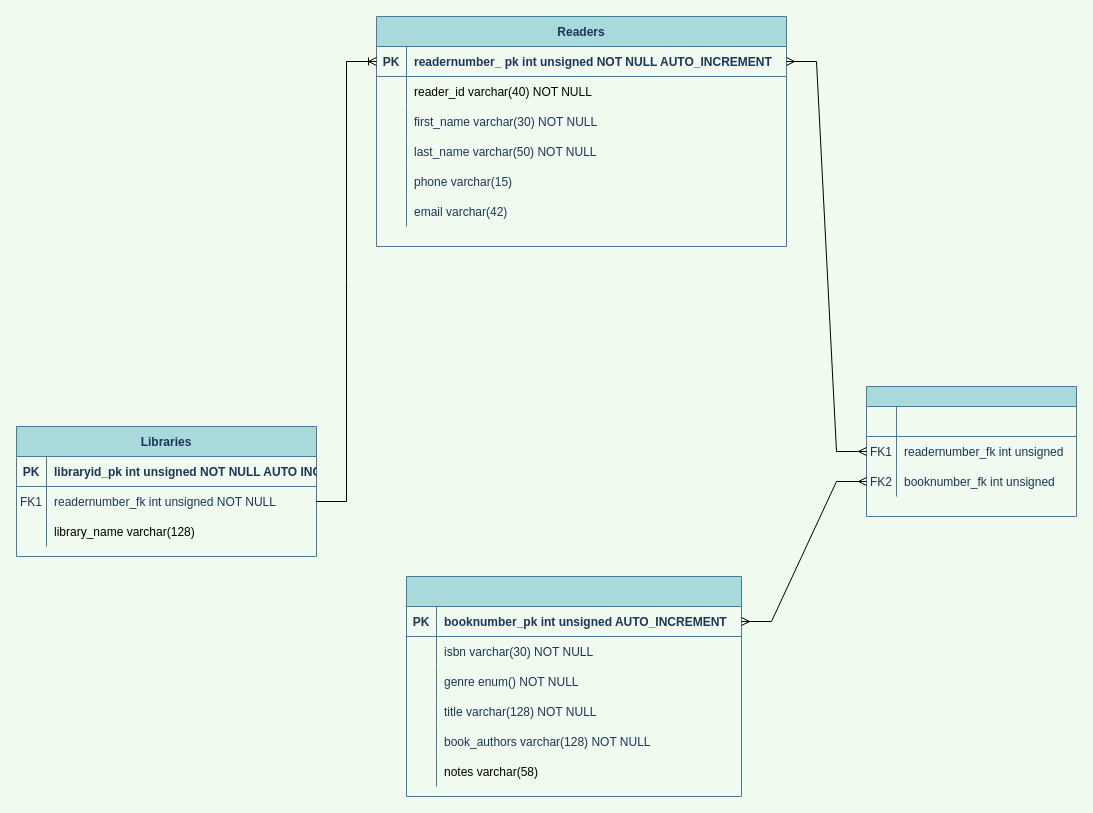
The diagram is 1093 pixels wide and 813 high, and some of its shapes have lost their labels. The box of each missing label's shape, as (x1, y1, x2, y2) in pixels:
Books: (406, 576, 742, 796)
Readers_Books: (866, 386, 1076, 516)
